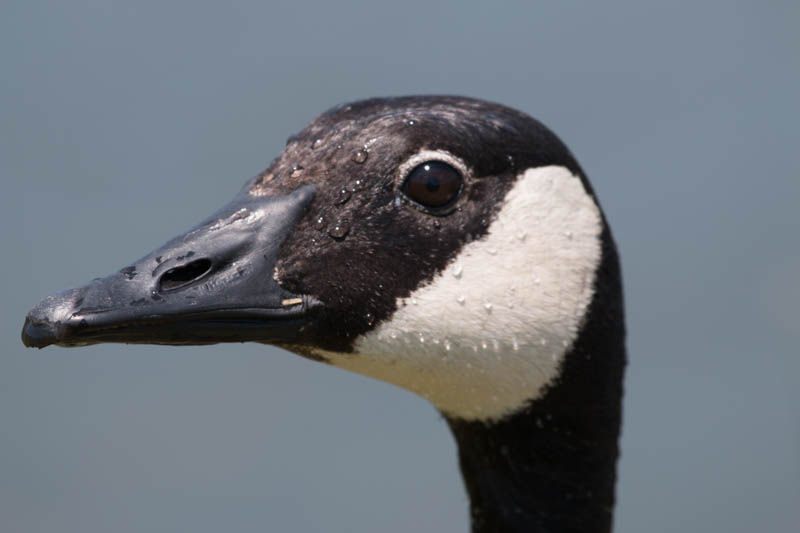goose-head: (21, 96, 629, 425)
